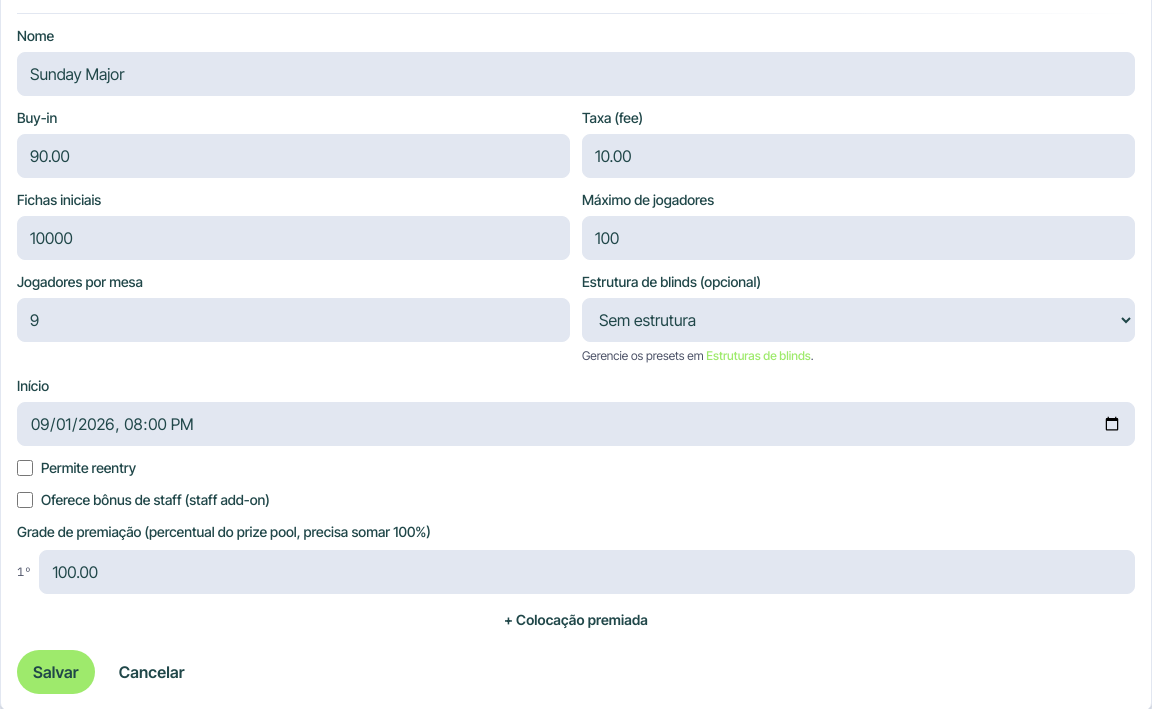
Test case: EditTournamentForm › mostra o erro da API quando a edição falha
(page scrolled)
Click the button "Salvar": coordinates (56, 672) [17,650,95,694]
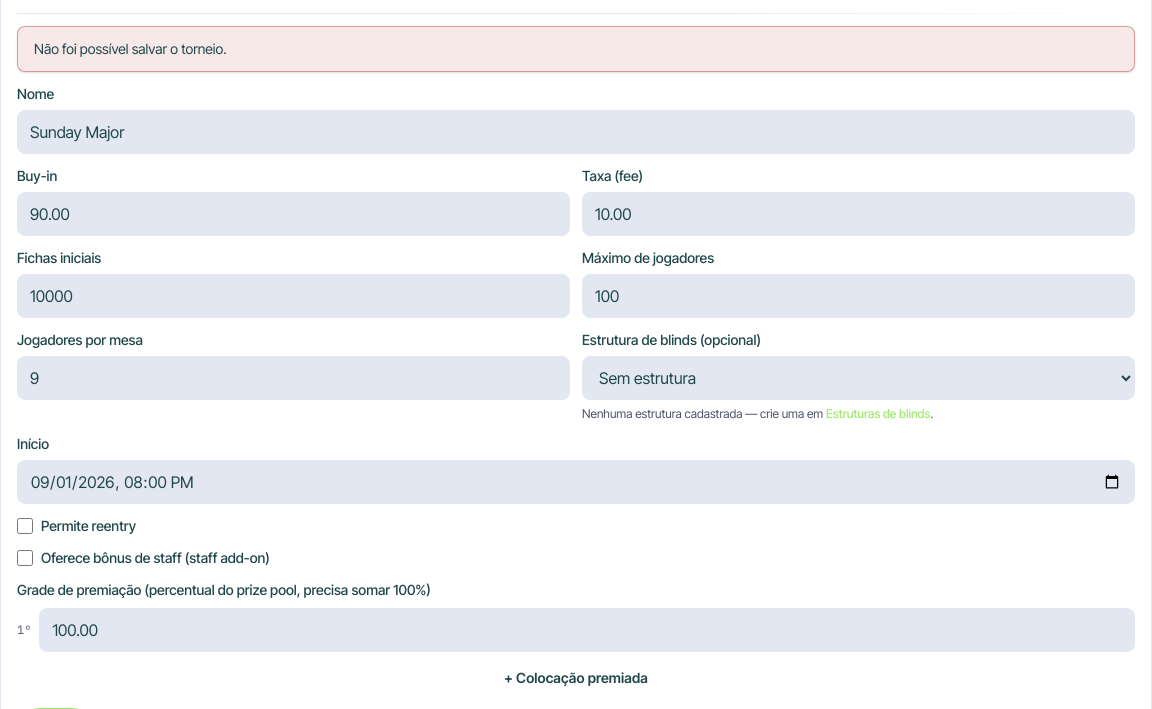
Check: the text "Não foi possível salvar o torneio." is shown, box [34,40,226,57]
